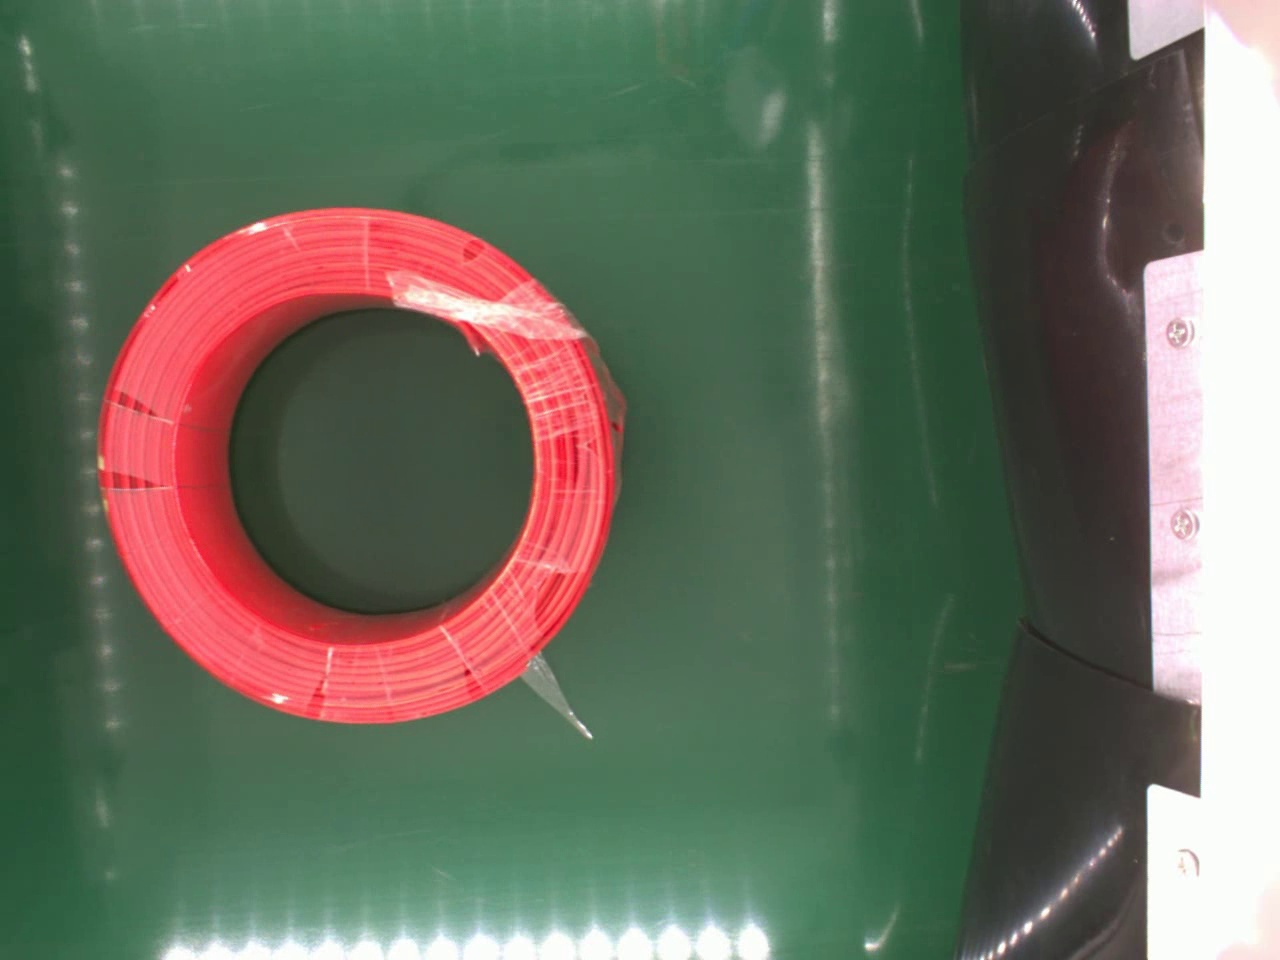red: (100, 207, 625, 720)
